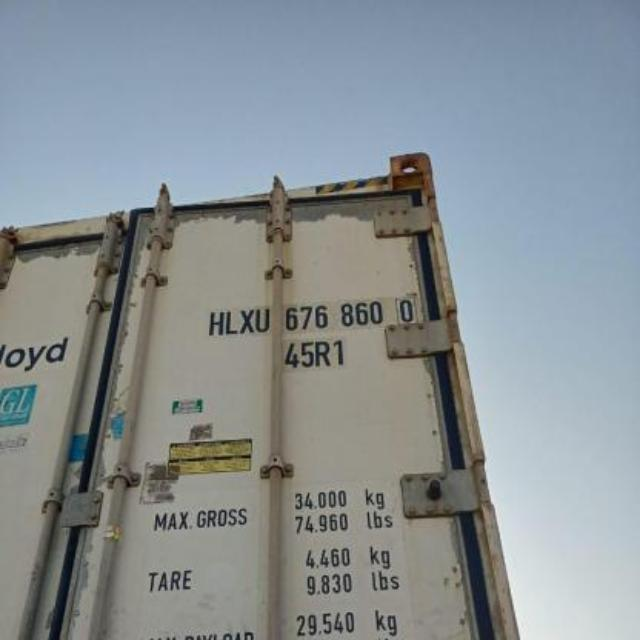0: (394, 298, 422, 326), (368, 292, 386, 332)
6: (313, 299, 331, 335), (284, 300, 300, 336), (354, 294, 370, 330)
7: (299, 299, 311, 335)
8: (340, 296, 356, 332)
H: (208, 304, 224, 338)
L: (225, 304, 238, 338)
U: (257, 298, 273, 339)
X: (238, 302, 254, 340)
